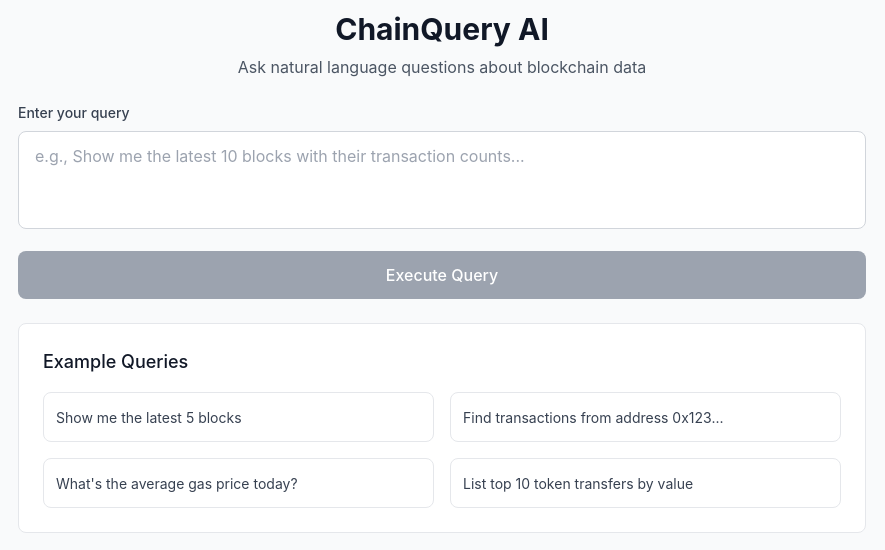
Test case: QueryInterface › disables submit button while loading
Type "test query" into the text box labelled "Enter your query".
click(442, 180); type("test query")  # box [18,131,866,229]
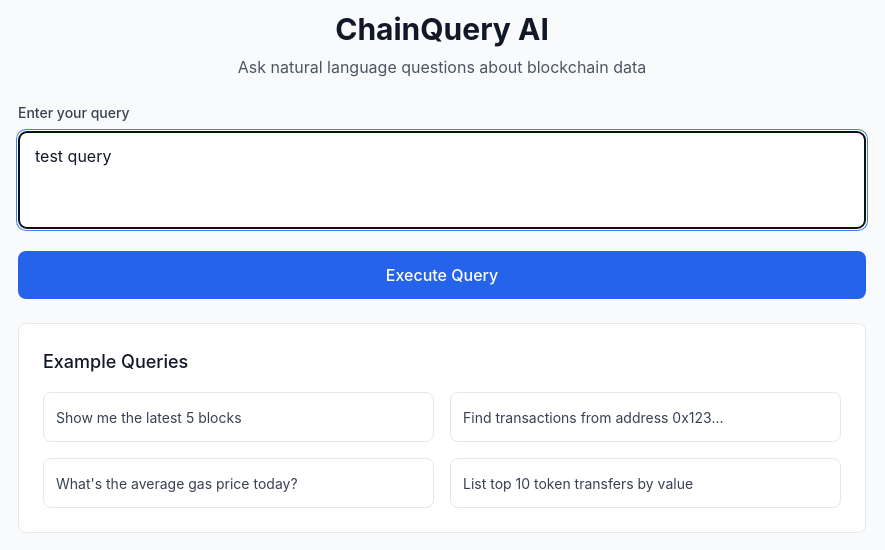
Click the button "Execute Query".
click(442, 275)  # box [18,251,866,299]
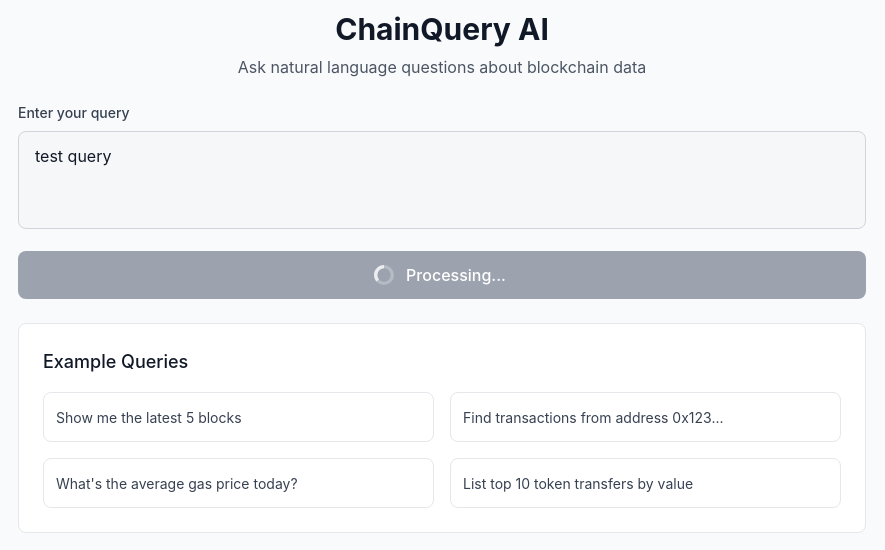
Expected: the button named "execute query" is disabled, [18,251,866,299]
Expected: the text "Processing..." is shown, [374,265,506,285]
